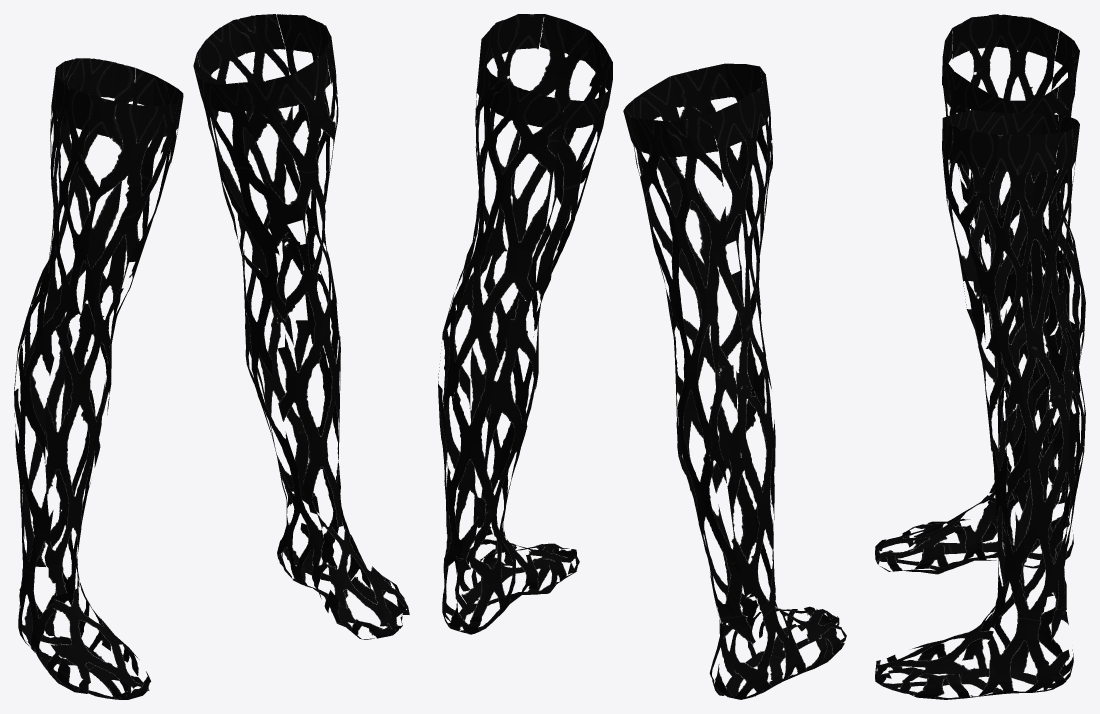
Rendered from mhw_v0rt3x_stockings_black_fishnet_large.glb.
3 views of the same model, side by side, from view 1: azimuth 30°, elevation 25°; view 2: azimuth 150°, elevation 25°; view 3: azimuth 270°, elevation 25° (orthographic). The views are drawn at different scales.
Visible parts, largest first — view 1: mhw_v0rt3x_stockings_black_fishnet_large; view 2: mhw_v0rt3x_stockings_black_fishnet_large; view 3: mhw_v0rt3x_stockings_black_fishnet_large.
Part boxes in pixels (box(x1,y1,x2,y2)): mhw_v0rt3x_stockings_black_fishnet_large: box(14, 14, 409, 699); mhw_v0rt3x_stockings_black_fishnet_large: box(438, 14, 846, 699); mhw_v0rt3x_stockings_black_fishnet_large: box(875, 14, 1085, 699).
Size of the model in its own units: 0.545 by 0.8774 by 0.3031.
1 material, 1 textured.
